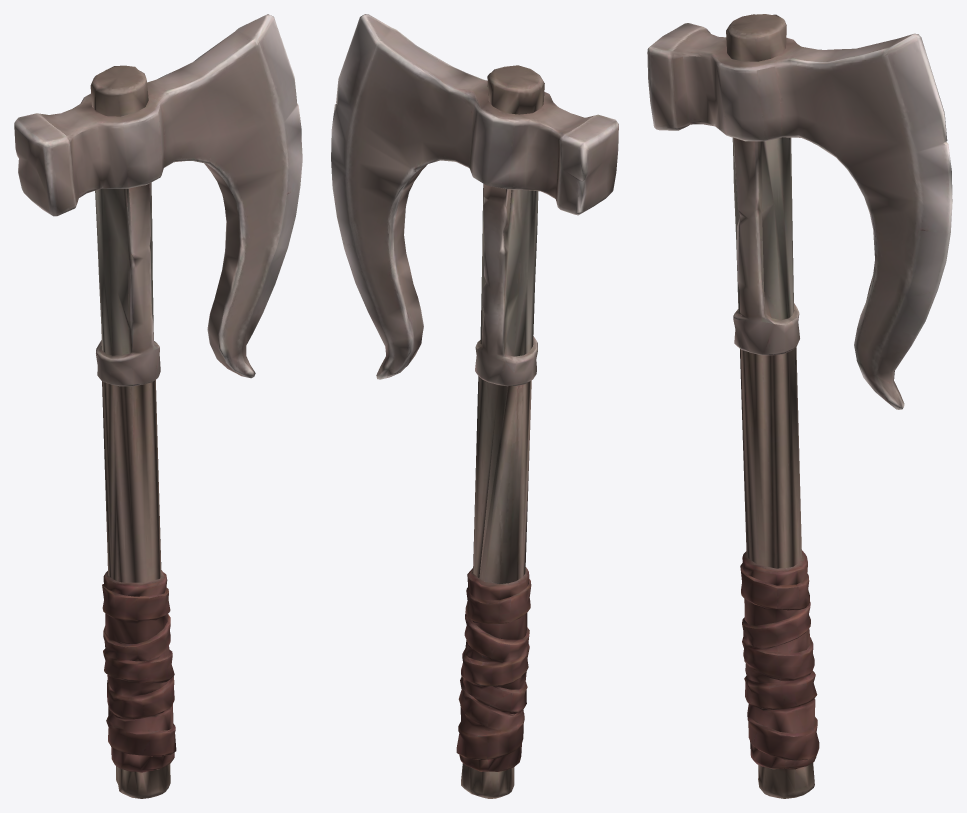
File: hatchet.glb
3 renders of one model, left to right at view 1: azimuth 30°, elevation 25°; view 2: azimuth 150°, elevation 25°; view 3: azimuth 330°, elevation 25°, orthographic. The views are drawn at different scales.
Visible parts, largest first — view 1: weapon; view 2: weapon; view 3: weapon.
Boxes of the visible parts, x1,y1,x2,y2 form: weapon: (14, 14, 302, 798); weapon: (331, 14, 618, 798); weapon: (647, 14, 952, 798).
Bounding box in the file's own units: 0.3861 × 1 × 0.1067.
Materials: 1 (1 with a texture image).
